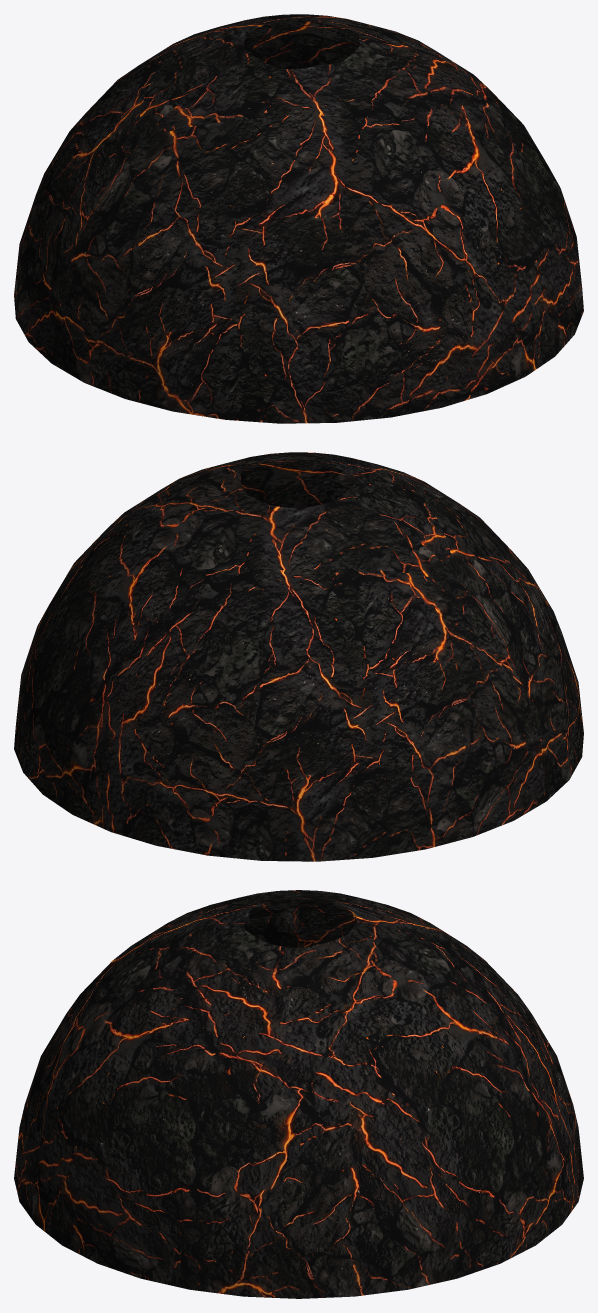
The model's file is lava-dome-v4.glb.
3 renders of one model, top to bottom at view 1: azimuth 30°, elevation 25°; view 2: azimuth 150°, elevation 25°; view 3: azimuth 270°, elevation 25°, orthographic.
Visible parts, largest first — view 1: Sphere; view 2: Sphere; view 3: Sphere.
Boxes of the visible parts, x1,y1,x2,y2 form: Sphere: (14, 14, 583, 423); Sphere: (14, 452, 583, 861); Sphere: (14, 890, 583, 1298).
Bounding box in the file's own units: 600 × 300 × 600.
1 material, 1 textured.
